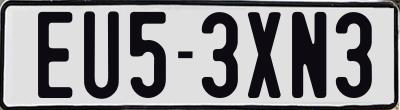3: (335, 10, 372, 98), (200, 9, 236, 99)
5: (129, 10, 165, 102)
E: (35, 11, 70, 97)
N: (291, 12, 329, 101)
U: (81, 8, 116, 99)
X: (247, 11, 282, 100)
